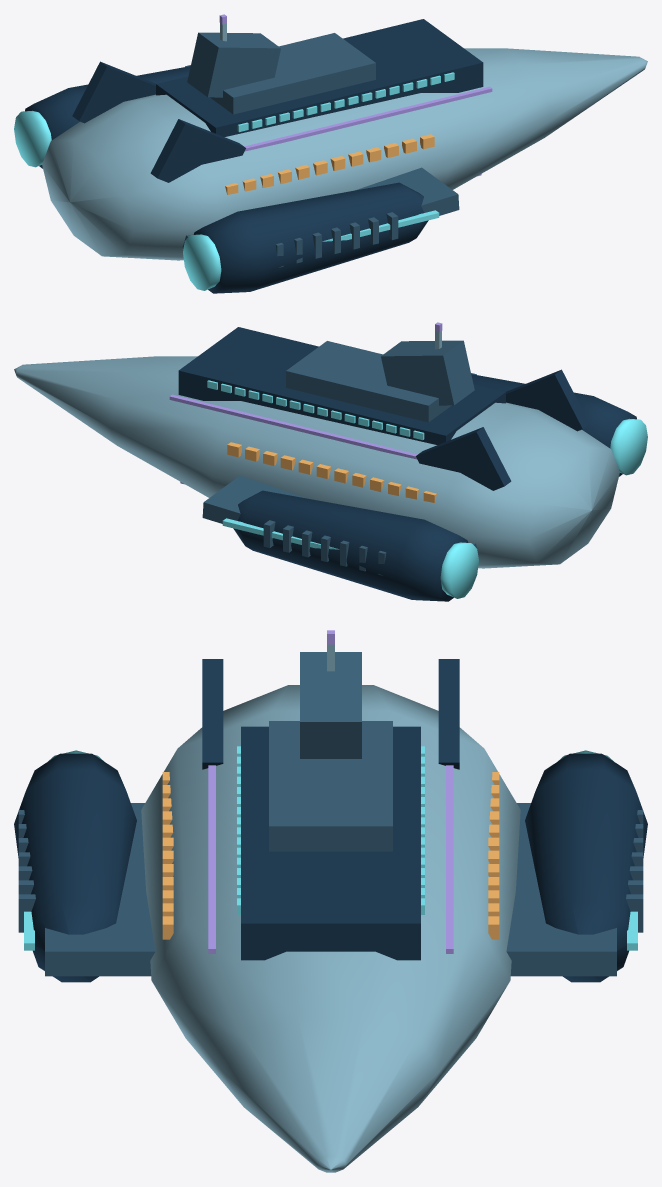
Rendered from shuttle.glb.
3 views of the same model, one above another, from view 1: azimuth 30°, elevation 25°; view 2: azimuth 150°, elevation 25°; view 3: azimuth 270°, elevation 25° (orthographic). The views are drawn at different scales.
Size of the model in its own units: 32.4 by 11.51 by 20.4.
